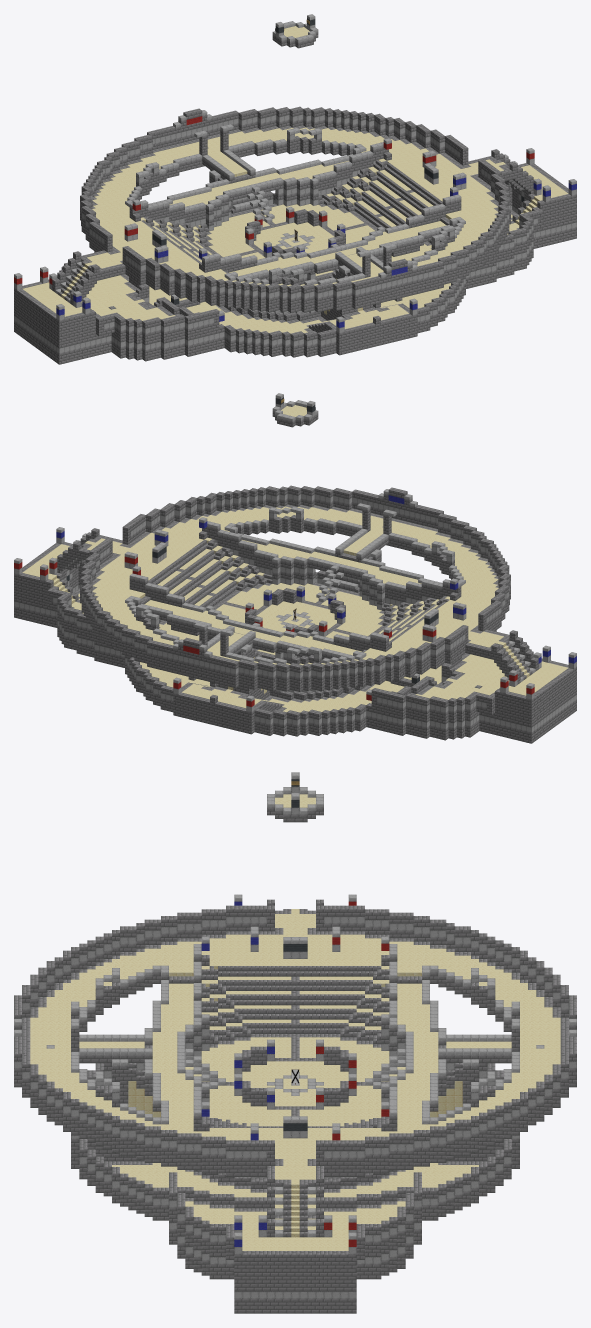
The model's file is minecraft.obj.
3 renders of one model, top to bottom at view 1: azimuth 30°, elevation 25°; view 2: azimuth 150°, elevation 25°; view 3: azimuth 270°, elevation 25°, orthographic. The views are drawn at different scales.
Size of the model in its own units: 99 by 48.5 by 69.
